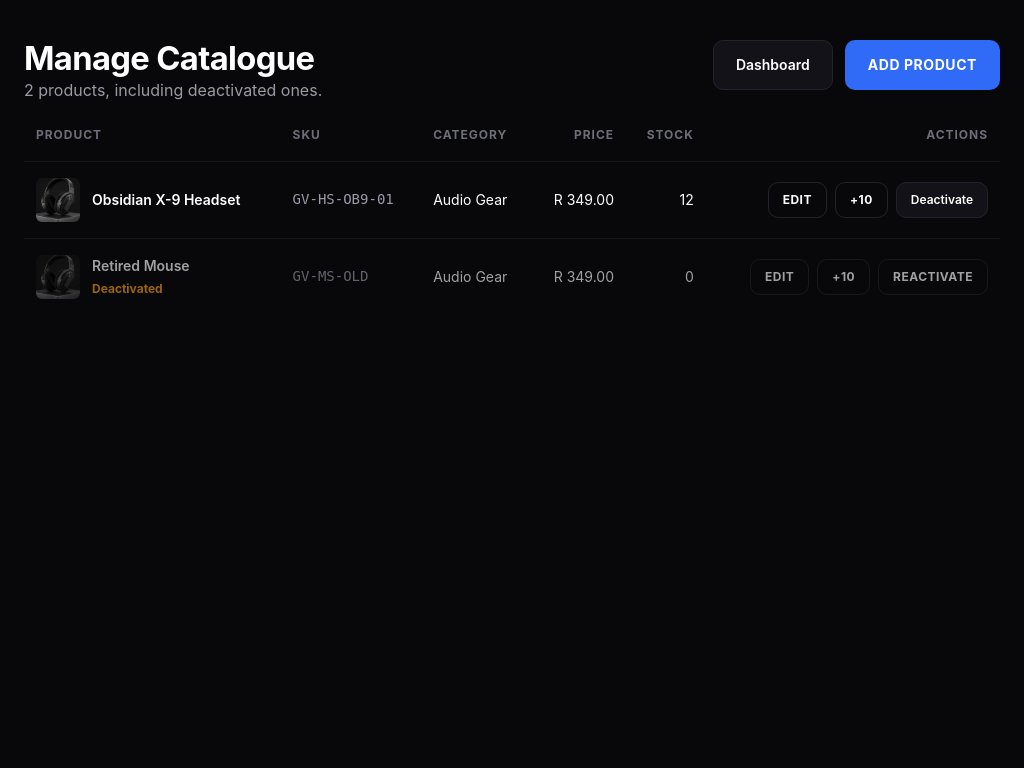
Test: editing a product › the form opens with the product's current values
The width and height of the screenshot is (1024, 768).
expect the text "Obsidian X-9 Headset" is shown: met, box [92,189,240,211]
Step 1. Click the button "Edit" in the row of "Obsidian X-9 Headset" → (797, 200), box [768,182,827,218]
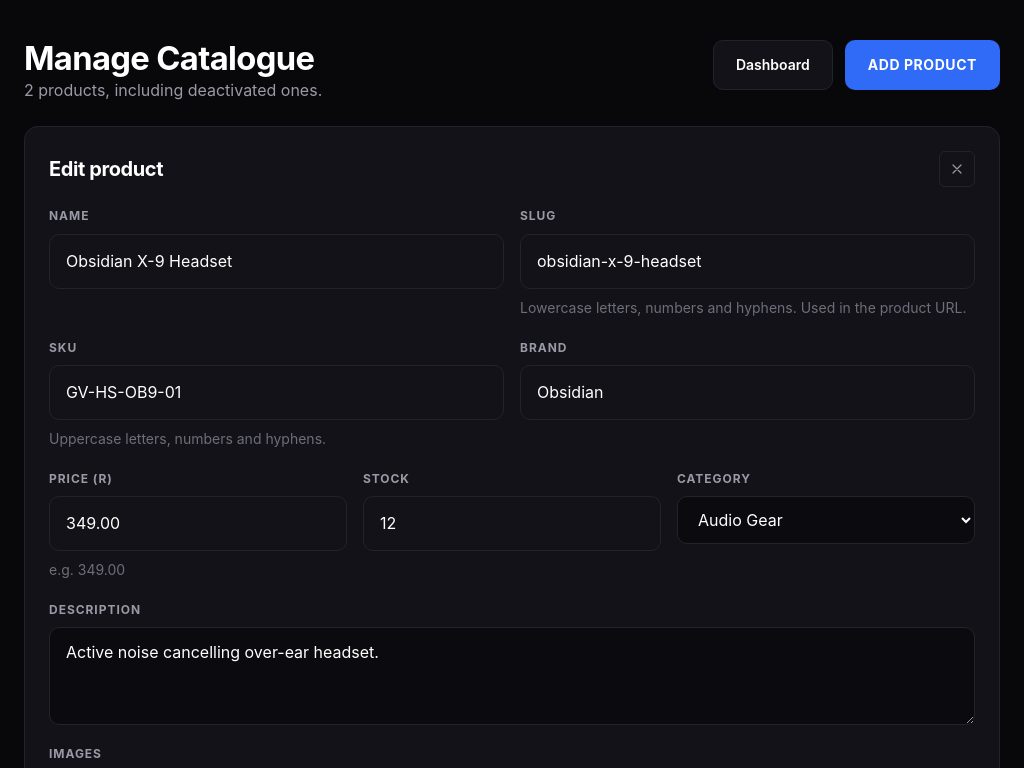
expect the field labelled "Name" holds "Obsidian X-9 Headset": met, box [49,234,504,289]
expect the field labelled "Price (R)" holds "349.00": met, box [49,496,347,551]
